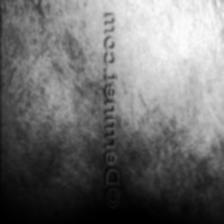Unclassified: (0, 0, 99, 184), (122, 91, 224, 212)
